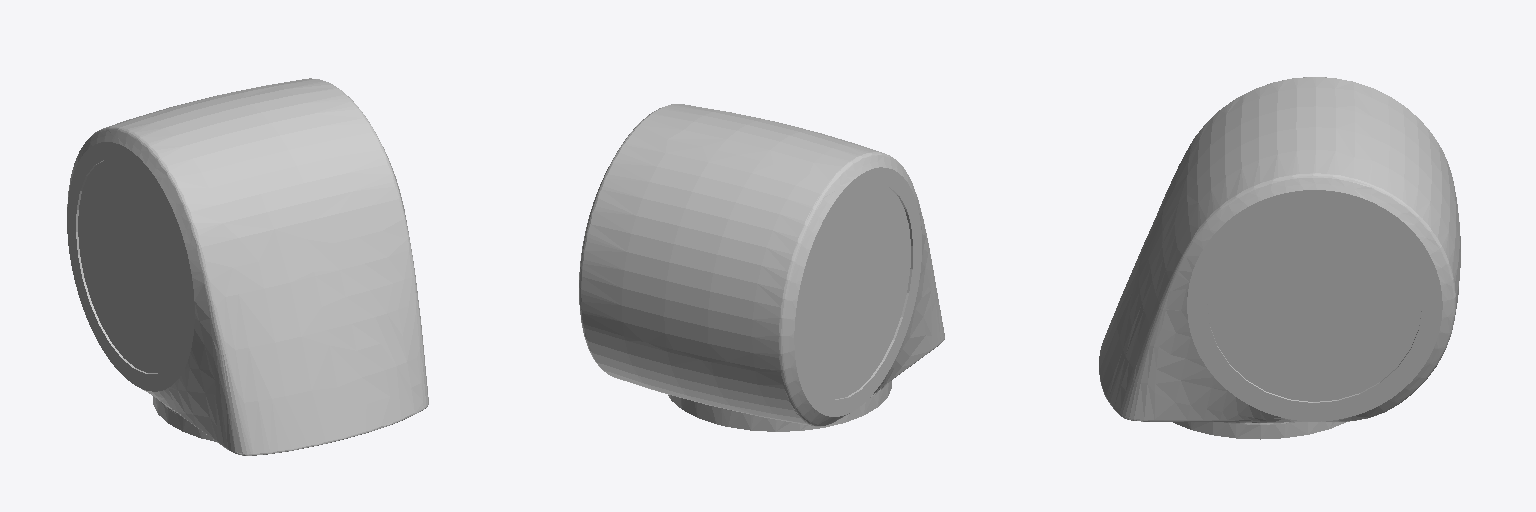
The model's file is left_shoulder_pitch_link_visuals.obj.
The picture shows the model from 3 angles: view 1: azimuth 30°, elevation 25°; view 2: azimuth 150°, elevation 25°; view 3: azimuth 270°, elevation 25°; orthographic projection.
Size of the model in its own units: 0.062 by 0.0745 by 0.0904.